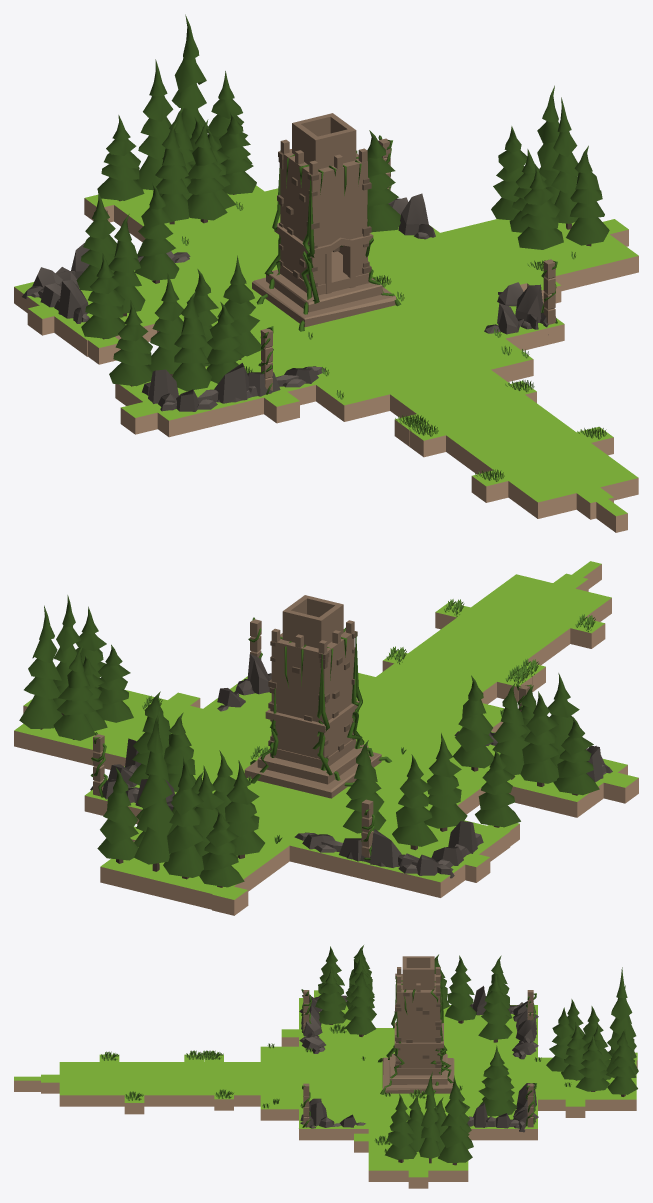
File: Isometric_Game_Level_Low_Poly.obj
The picture shows the model from 3 angles, top to bottom: view 1: azimuth 30°, elevation 25°; view 2: azimuth 150°, elevation 25°; view 3: azimuth 270°, elevation 25°; orthographic projection. The views are drawn at different scales.
Parts seen in each view (by area): view 1: Isometric_Game_Level_Low_Poly; view 2: Isometric_Game_Level_Low_Poly; view 3: Isometric_Game_Level_Low_Poly.
Part boxes in pixels (bbox=[...]): Isometric_Game_Level_Low_Poly: bbox=[14, 14, 638, 532]; Isometric_Game_Level_Low_Poly: bbox=[14, 561, 638, 915]; Isometric_Game_Level_Low_Poly: bbox=[14, 945, 638, 1188].
Bounding box in the file's own units: 44.35 × 15.77 × 62.71.
